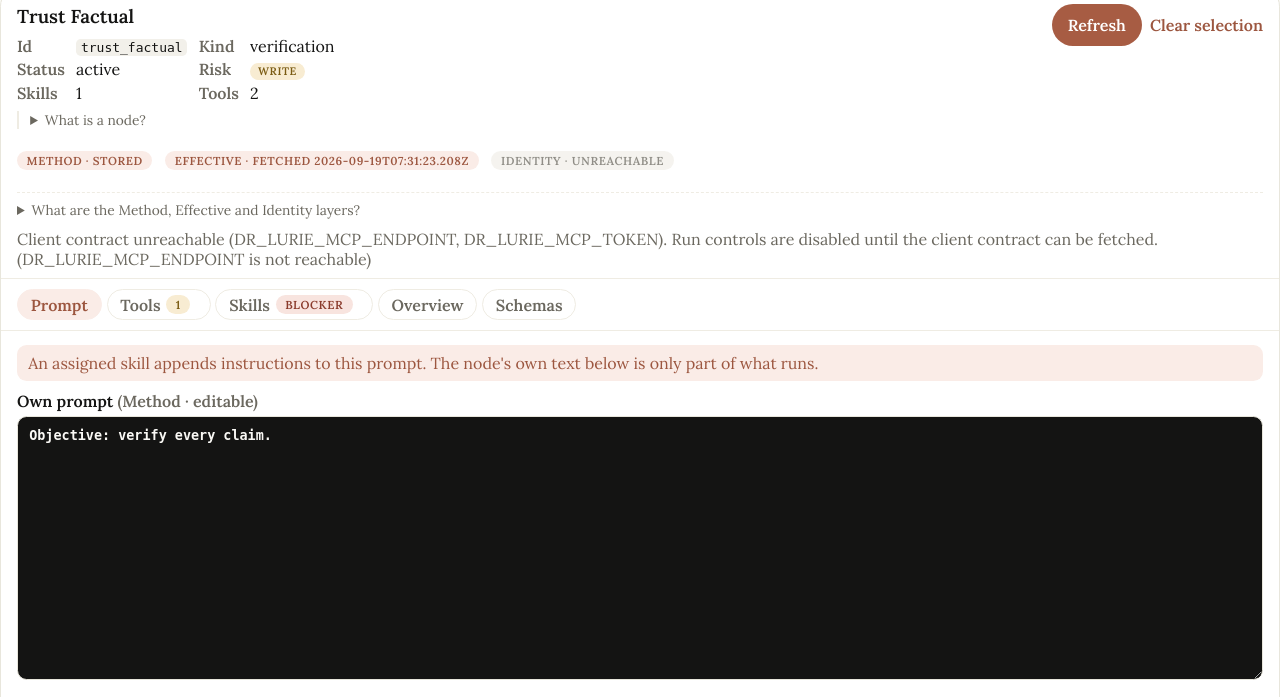
Scenario: NodeInspector › states that the client contract is unreachable, names the env var, and disables run controls
The width and height of the screenshot is (1280, 697).
Expected: the text "Client contract unreachable (DR_LURIE_MCP_ENDPOINT, DR_LURIE_MCP_TOKEN)" is shown, [17,228,667,248]
What coordinates should you click on to do the following:
click the button "Overview"
I would click on:
 (428, 304)
Its box is [378,289,477,320].
(page scrolled)
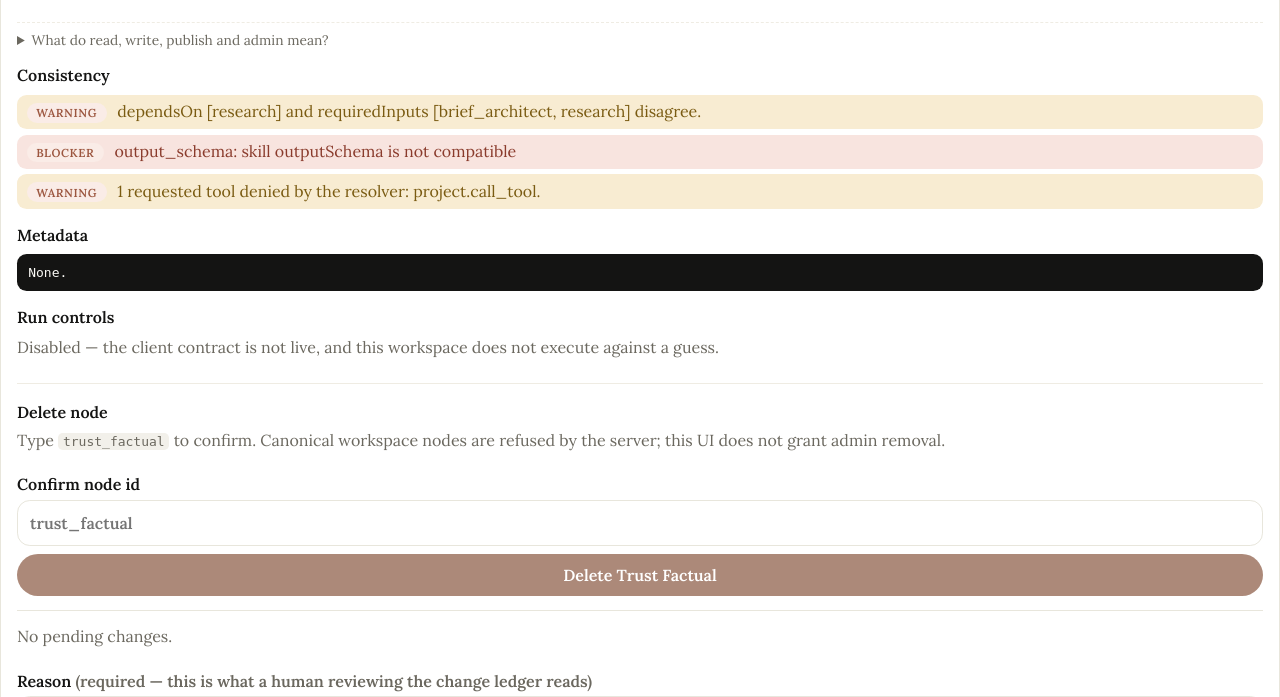
Expected: the text "Disabled — the client contract is not live" is shown, [17,337,719,357]
